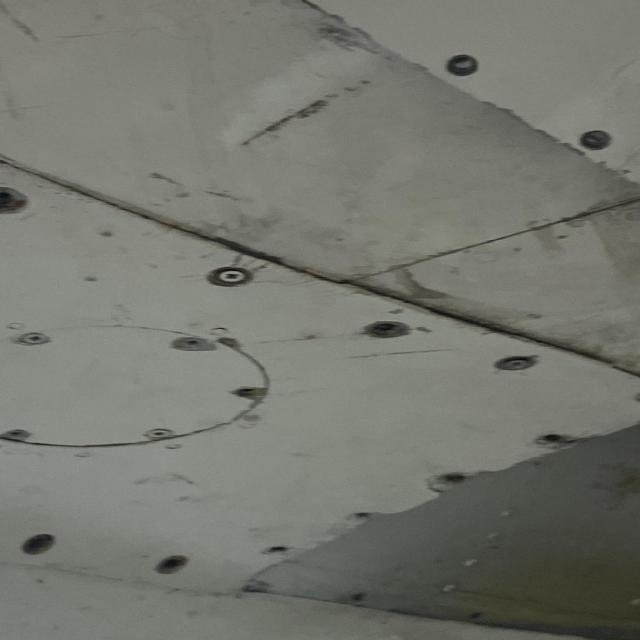Missing-head: (362, 321, 410, 339), (18, 534, 55, 556), (0, 185, 27, 215), (578, 129, 613, 151), (445, 54, 477, 75), (153, 556, 186, 576), (535, 433, 575, 449), (636, 394, 640, 402)
